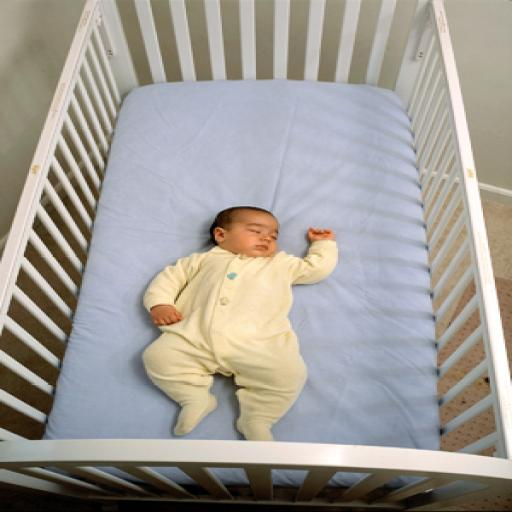baby: (144, 208, 337, 441)
crib: (0, 0, 511, 509)
